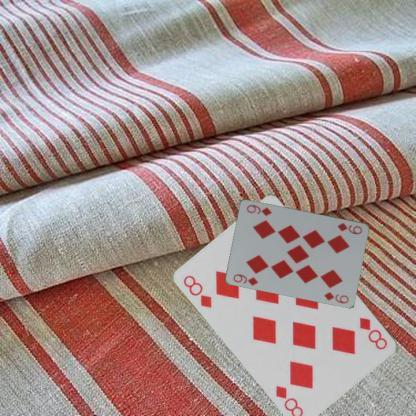8d: (181, 272, 214, 309), (357, 314, 389, 352)
9d: (230, 271, 260, 287), (335, 220, 364, 236)
